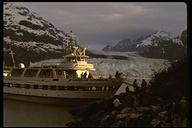mountain: (4, 3, 181, 62)
ship: (3, 39, 127, 110)
sky: (74, 5, 173, 29)
water: (1, 99, 70, 126)
